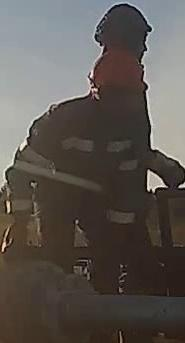gloves: (151, 148, 185, 188), (0, 212, 32, 252)
helmet: (89, 50, 148, 94)
vest: (18, 97, 137, 221)
